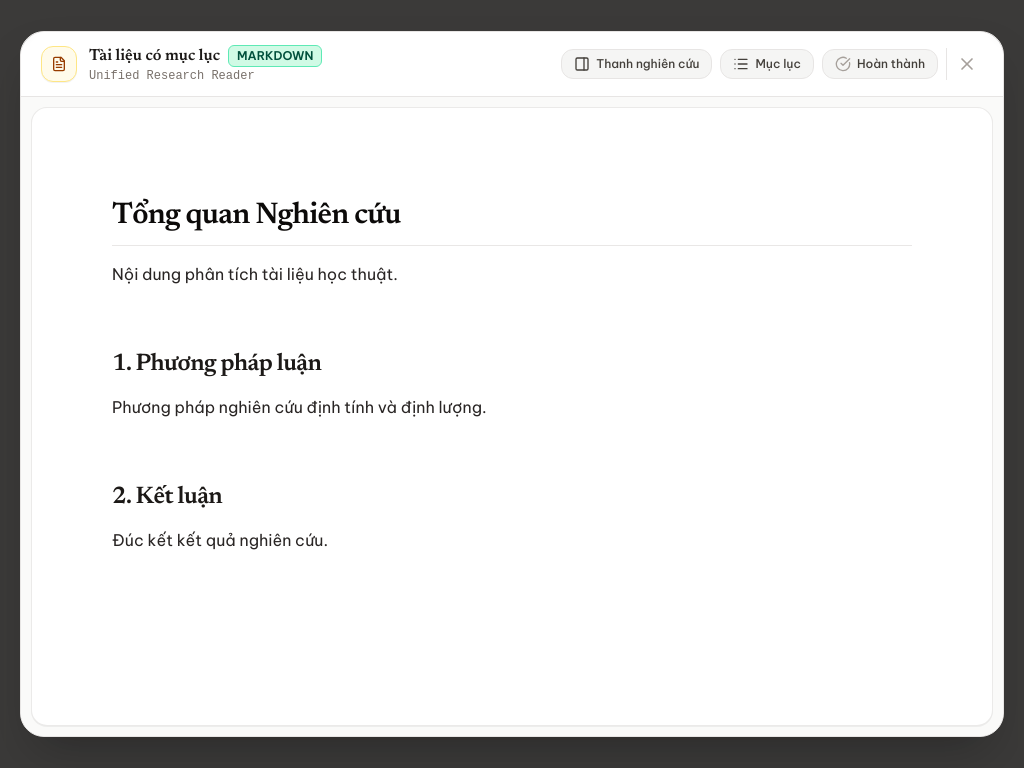
Test: Phase 18A Wave 2 Integration: UnifiedResearchReader › toggles Table of Contents (TOC) drawer open and closed
The width and height of the screenshot is (1024, 768).
# Open TOC
Click the button "Mục lục" at (767, 64), box [720,49,814,79]
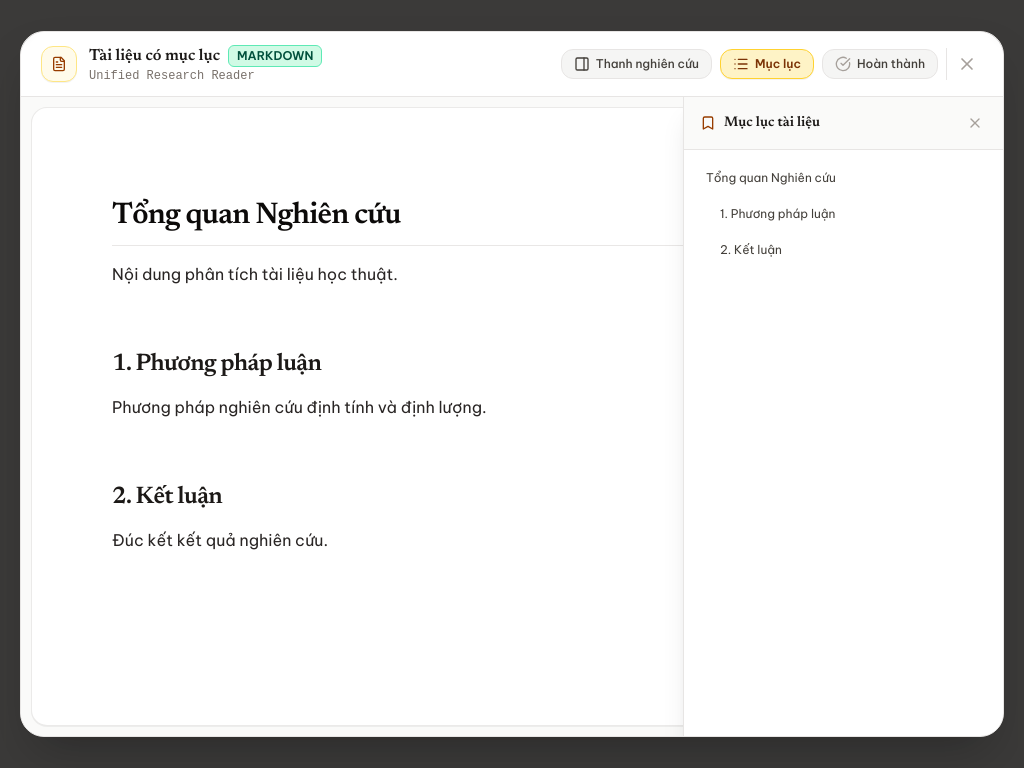
Expected: the dialog "Mục lục tài liệu" is shown, [683,97,1003,736]
Expected: the button "Tổng quan Nghiên cứu" is shown, [696,162,991,194]
Expected: the button "1. Phương pháp luận" is shown, [696,198,991,230]
# Close TOC via close drawer button
Click the button named "Đóng mục lục" at (975, 123), box [963,111,987,135]
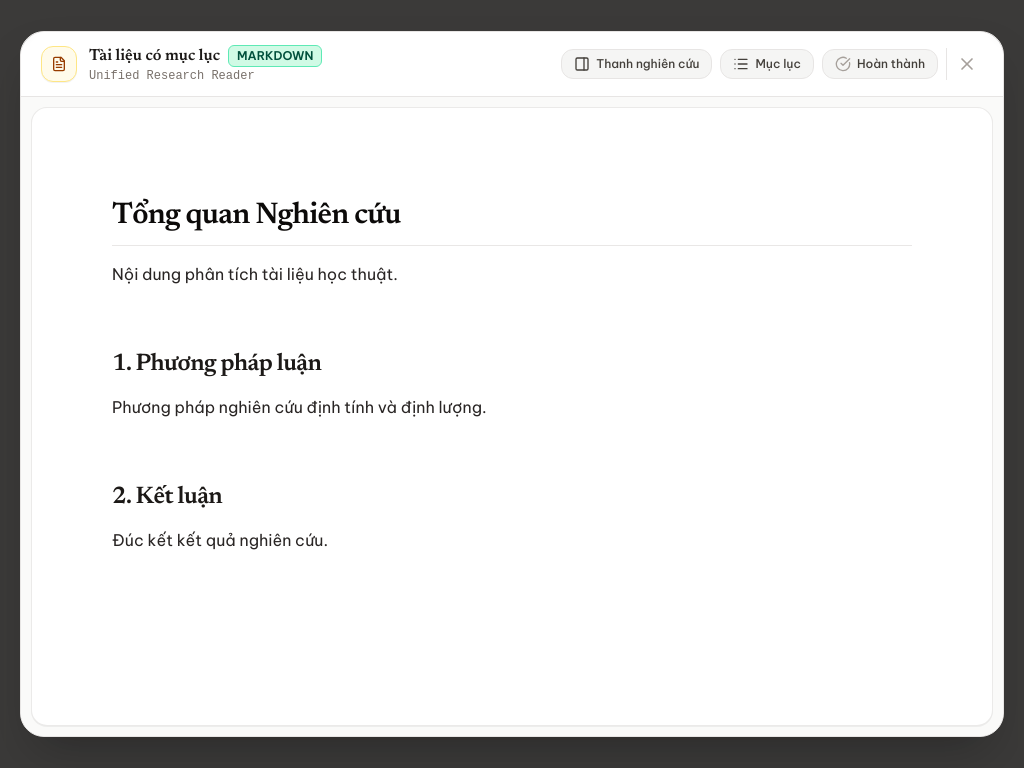
Expected: the heading "Mục lục tài liệu" is gone
